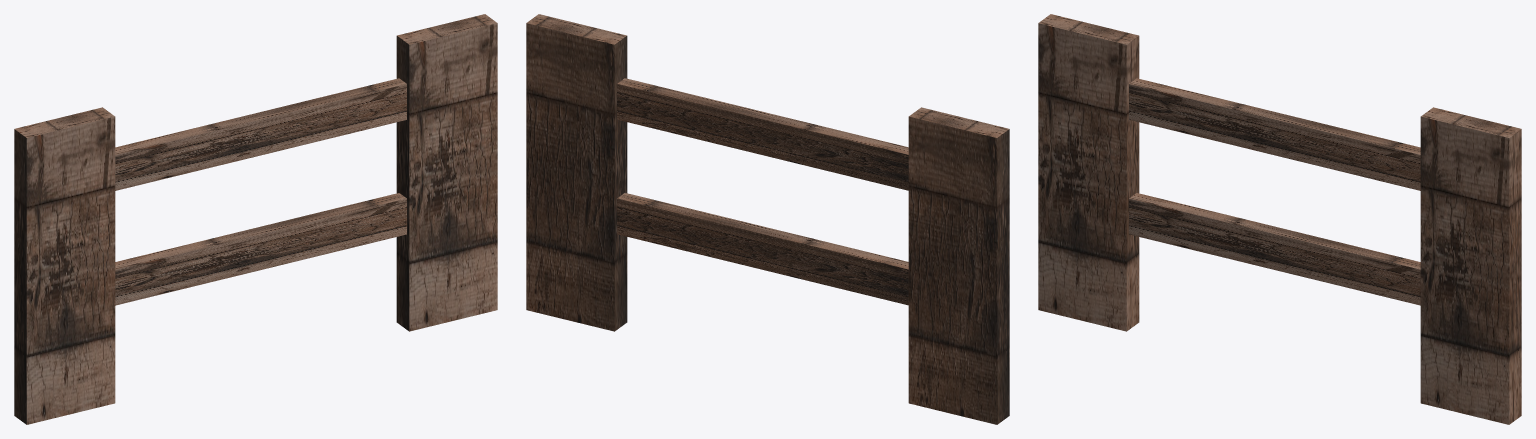
The model's file is fencewood.fbx_Fence_closed.fbx.
The picture shows the model from 3 angles, left to right: view 1: azimuth 30°, elevation 25°; view 2: azimuth 150°, elevation 25°; view 3: azimuth 330°, elevation 25°; orthographic projection.
Visible parts, largest first — view 1: Cube.011, Cube.008, Cube.010, Cube.009; view 2: Cube.011, Cube.008, Cube.009, Cube.010; view 3: Cube.008, Cube.011, Cube.010, Cube.009.
Boxes of the visible parts, x1,y1,x2,y2 form: Cube.011: [14, 107, 115, 424]; Cube.008: [396, 14, 497, 331]; Cube.010: [115, 78, 406, 190]; Cube.009: [115, 193, 406, 305]; Cube.011: [908, 107, 1009, 424]; Cube.008: [526, 14, 627, 331]; Cube.009: [617, 193, 908, 305]; Cube.010: [617, 78, 908, 190]; Cube.008: [1420, 107, 1521, 424]; Cube.011: [1038, 14, 1139, 331]; Cube.010: [1129, 78, 1420, 190]; Cube.009: [1129, 193, 1420, 305].
Size of the model in its own units: 344 by 200 by 15.89.
